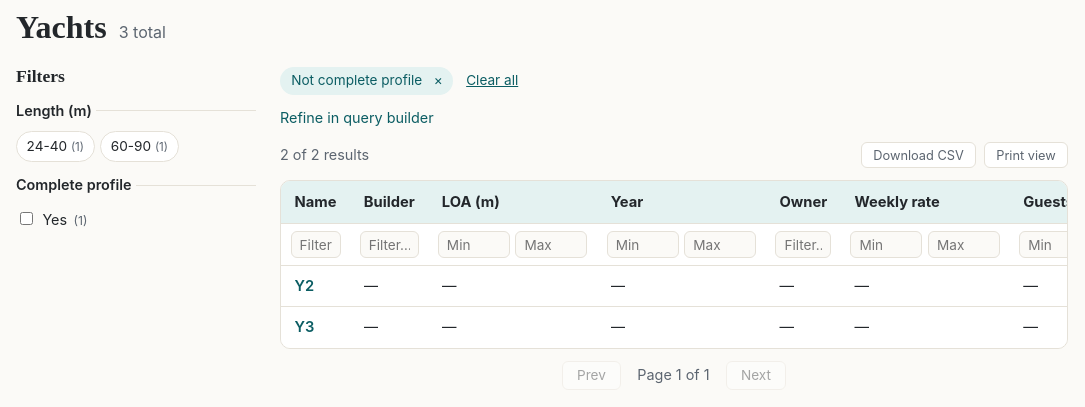
it: facet views › the boolean switch replaces the group instead of appending
Expected: the number of elements with class "chips__chip" is 1, x1=280 y1=67 x2=453 y2=94
Click the switch labelled "Yes (1)".
click(26, 218)  # box x1=20 y1=212 x2=33 y2=225
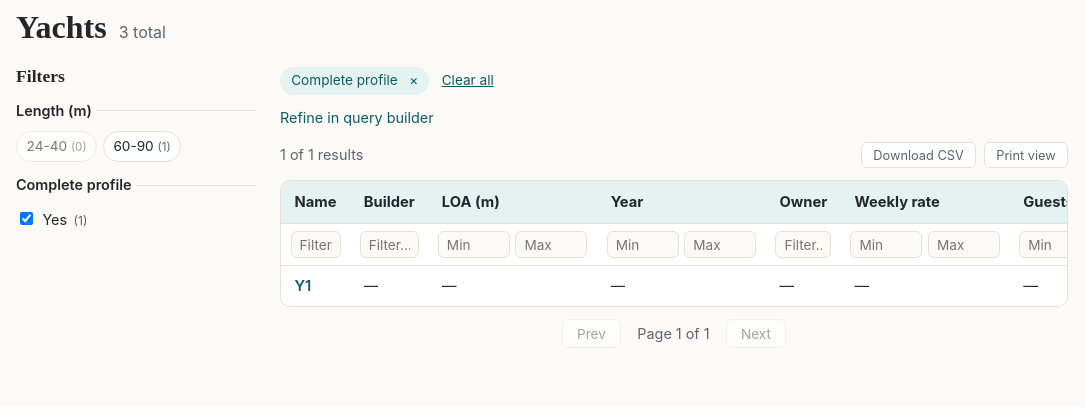
Result: the text with class "data-table__count" reads "1 of 1 results" at x1=280 y1=146 x2=363 y2=163
